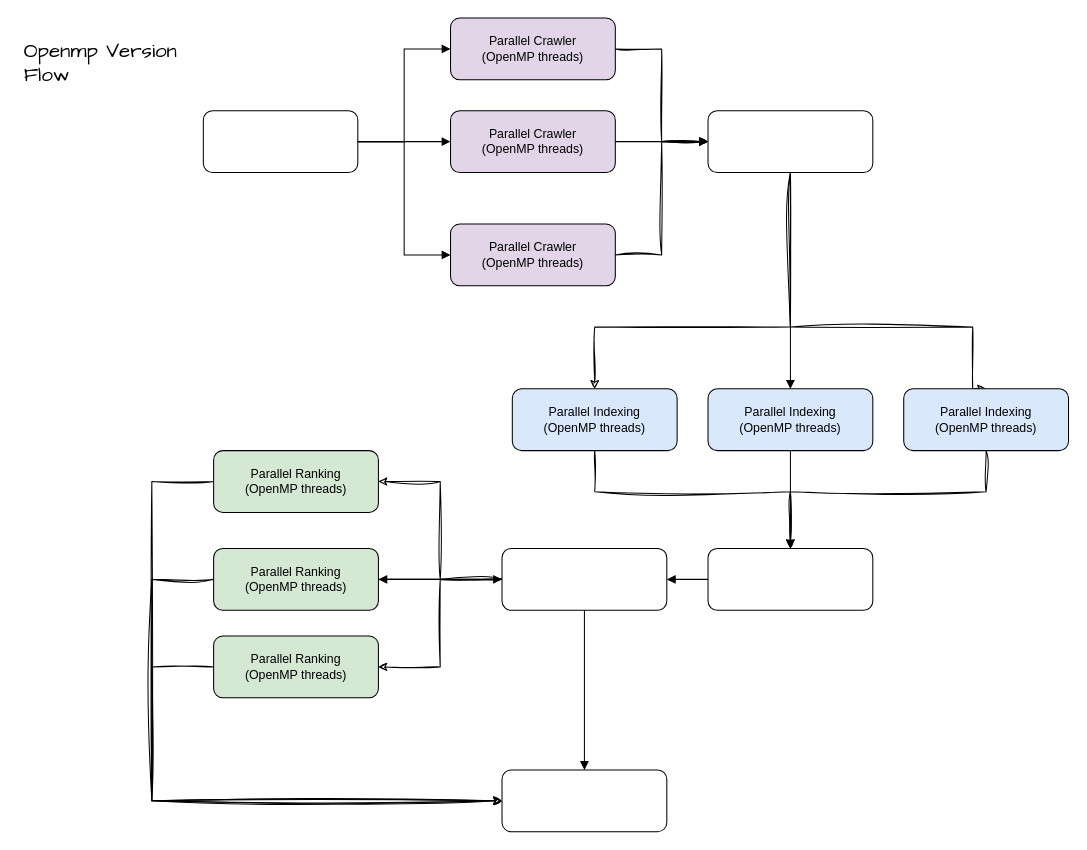
Some shapes in this 1087 by 850 pixel diagram are drawn without their labels. The box of each missing label's shape, as (x1, y1, x2, y2) in pixels:
Downloaded Files: (707, 110, 873, 173)
Inverted Index: (707, 547, 873, 610)
Search Results: (501, 769, 667, 832)
User Input (URLs, options): (202, 110, 358, 173)
User Query Input: (501, 547, 667, 610)
